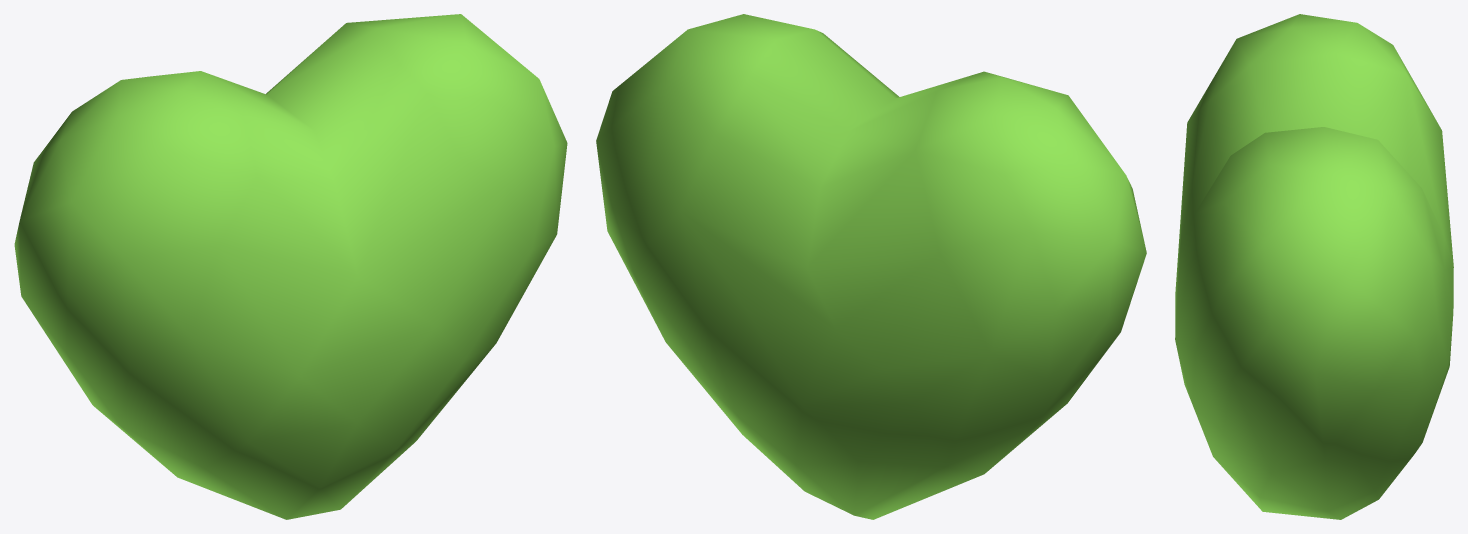
The model's file is heart.obj.
The picture shows the model from 3 angles, left to right: view 1: azimuth 30°, elevation 25°; view 2: azimuth 150°, elevation 25°; view 3: azimuth 270°, elevation 25°; orthographic projection. The views are drawn at different scales.
Visible parts, largest first — view 1: Love 메시; view 2: Love 메시; view 3: Love 메시.
Boxes of the visible parts, x1,y1,x2,y2 form: Love 메시: (14,14,567,519); Love 메시: (596,14,1146,519); Love 메시: (1175,14,1453,519).
Size of the model in its own units: 12.05 by 10.07 by 5.94.
